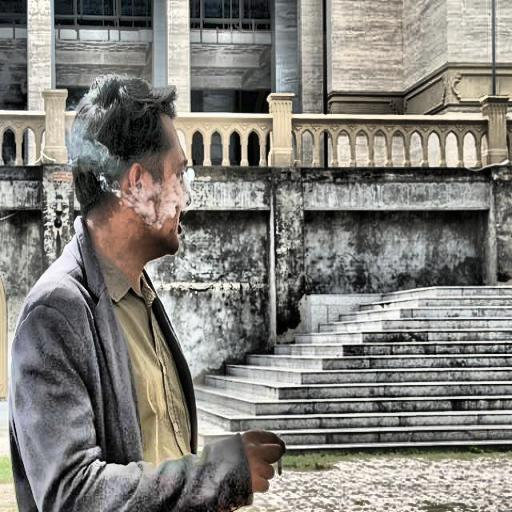Asbak: (277, 460, 281, 474)
Merokok: (73, 115, 190, 286), (241, 431, 284, 491)
